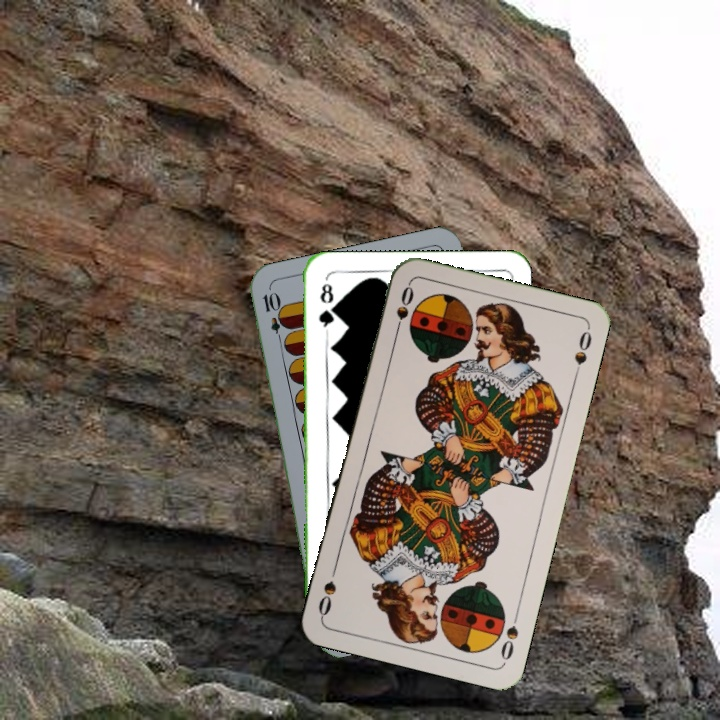E10: (259, 288, 287, 347)
G8: (315, 279, 337, 336)
SO: (390, 281, 417, 339), (496, 607, 522, 663)
